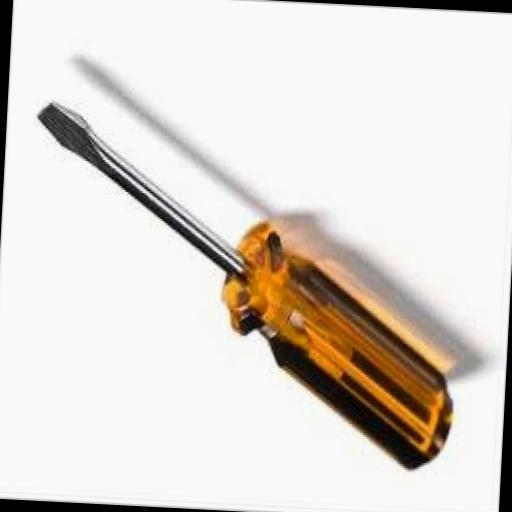screwdriver: (18, 98, 470, 474)
